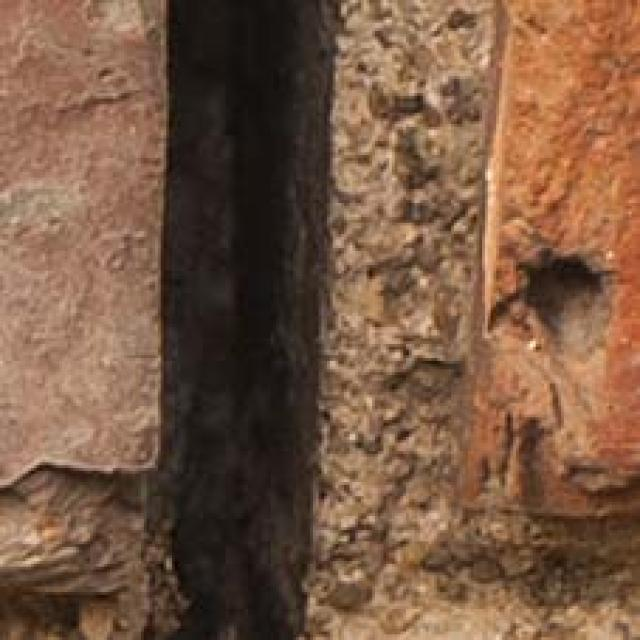Crack: (63, 0, 412, 640)
